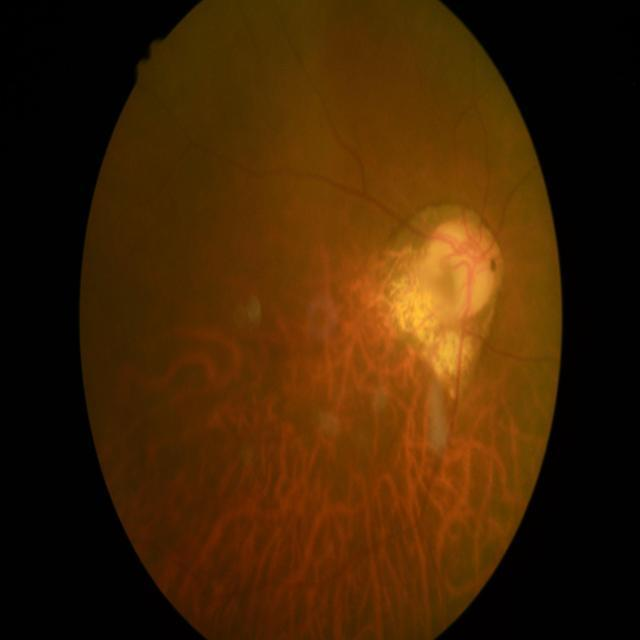cup: (439, 232, 487, 304)
disk: (419, 216, 504, 324)
